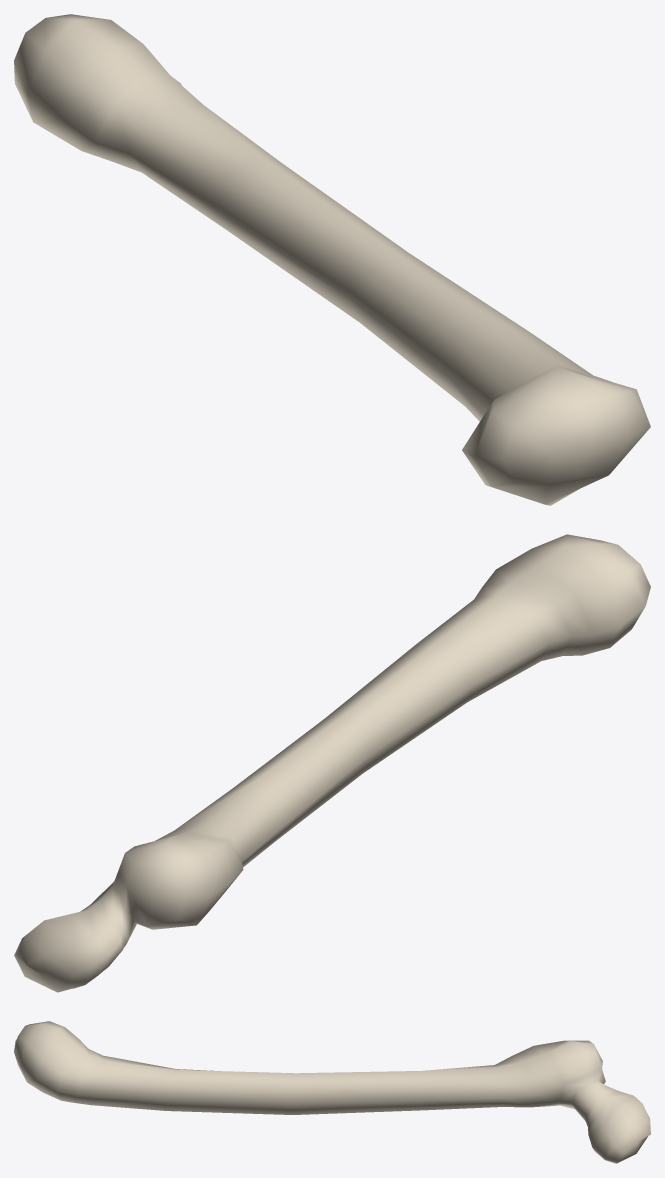
File: Bone_2.glb
3 views of the same model, one above another, from view 1: azimuth 30°, elevation 25°; view 2: azimuth 150°, elevation 25°; view 3: azimuth 270°, elevation 25° (orthographic). The views are drawn at different scales.
Parts seen in each view (by area): view 1: Bone_2; view 2: Bone_2; view 3: Bone_2.
Boxes of the visible parts, x1,y1,x2,y2 form: Bone_2: (14, 14, 650, 505); Bone_2: (14, 534, 650, 992); Bone_2: (14, 1021, 650, 1163).
Size of the model in its own units: 0.1156 by 0.0841 by 0.4851.
